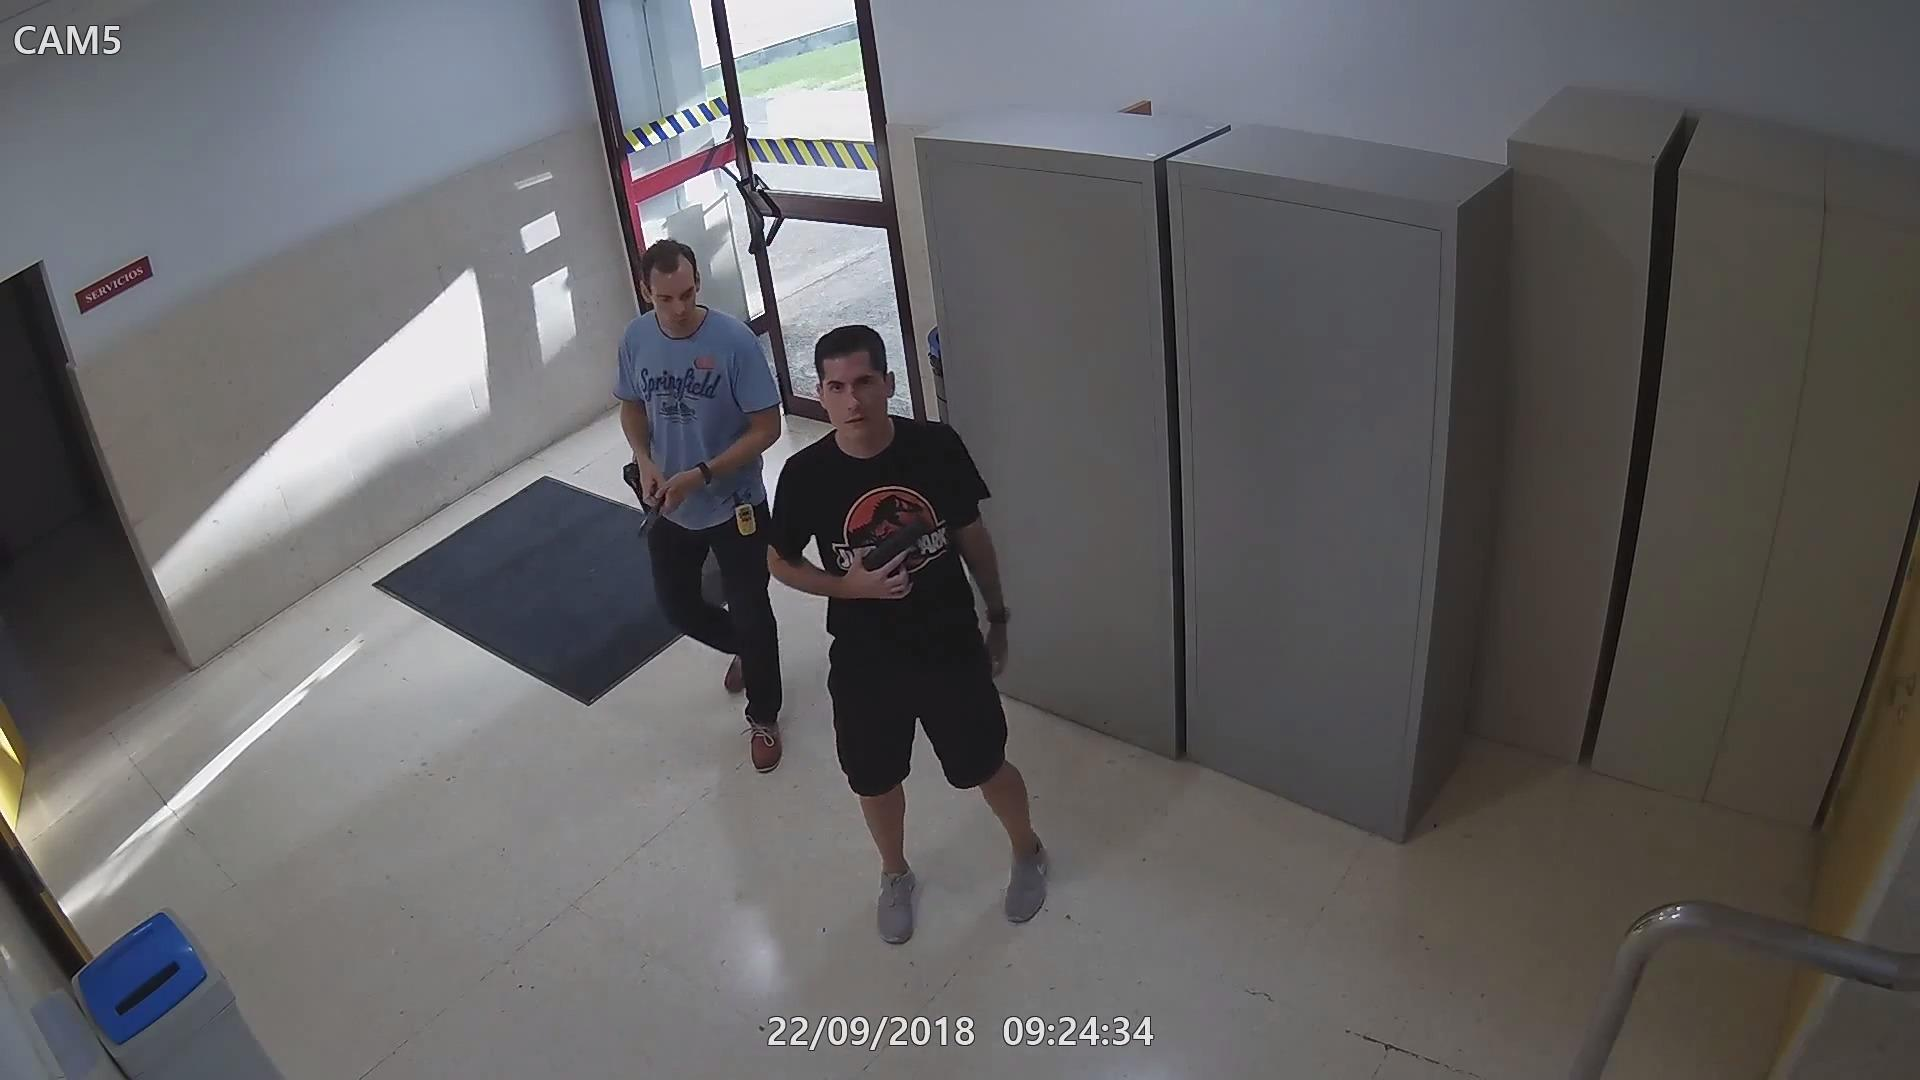Handgun: (841, 512, 932, 608)
